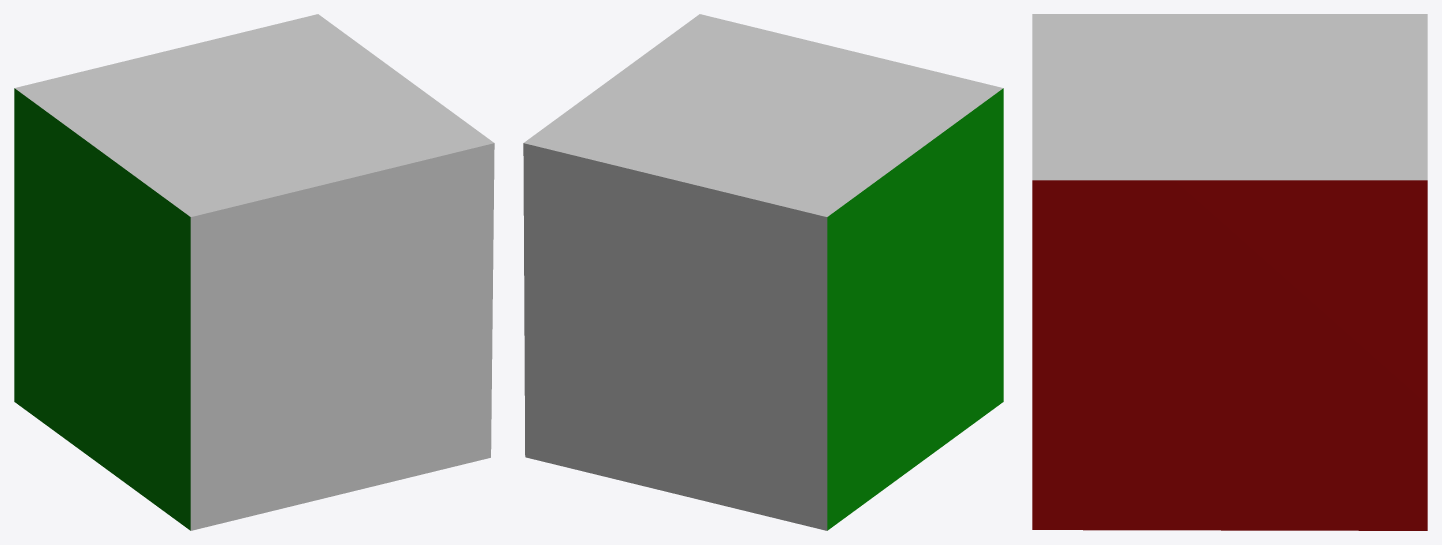
The model's file is cornell.obj.
The picture shows the model from 3 angles, left to right: view 1: azimuth 30°, elevation 25°; view 2: azimuth 150°, elevation 25°; view 3: azimuth 270°, elevation 25°; orthographic projection. The views are drawn at different scales.
Bounding box in the file's own units: 1.99 × 1.96 × 2.
